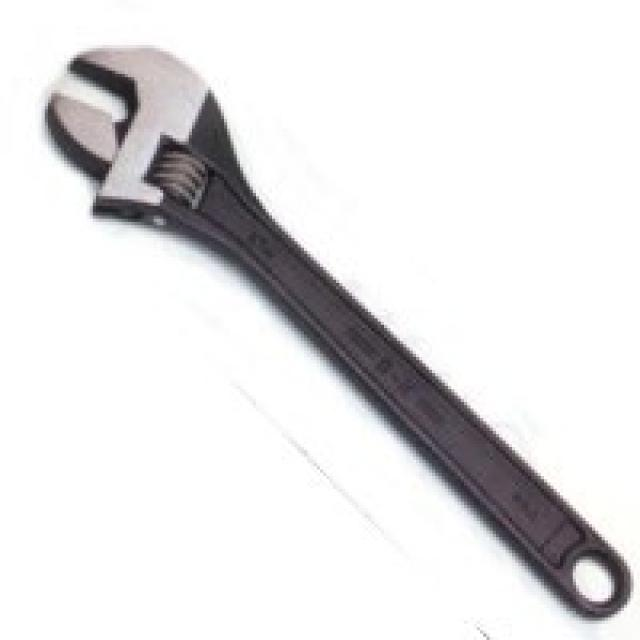wrench: (34, 36, 634, 624)
